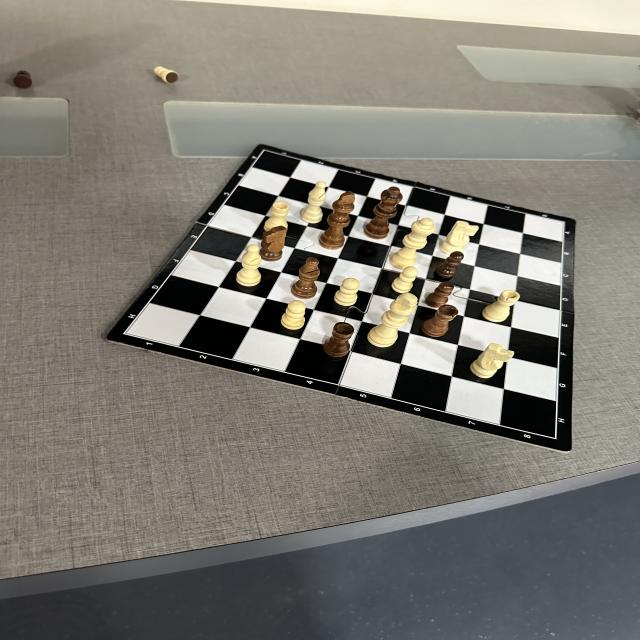Black-Bishop: (291, 257, 320, 299)
Black-King: (318, 191, 356, 250)
Black-Knight: (260, 225, 288, 262)
Black-Pawn: (436, 251, 464, 278), (426, 281, 454, 308)
Black-Queen: (364, 186, 403, 240)
Black-Rook: (422, 304, 458, 337), (323, 322, 354, 358)
White-Bishop: (300, 181, 326, 224), (236, 244, 262, 287)
White-King: (367, 292, 418, 348)
White-Knight: (469, 342, 515, 378), (440, 220, 479, 254)
White-Pawn: (391, 266, 418, 294), (333, 278, 360, 306), (281, 300, 306, 330)
White-Queen: (390, 217, 436, 270)
White-Rook: (482, 290, 520, 322), (263, 202, 290, 232)
